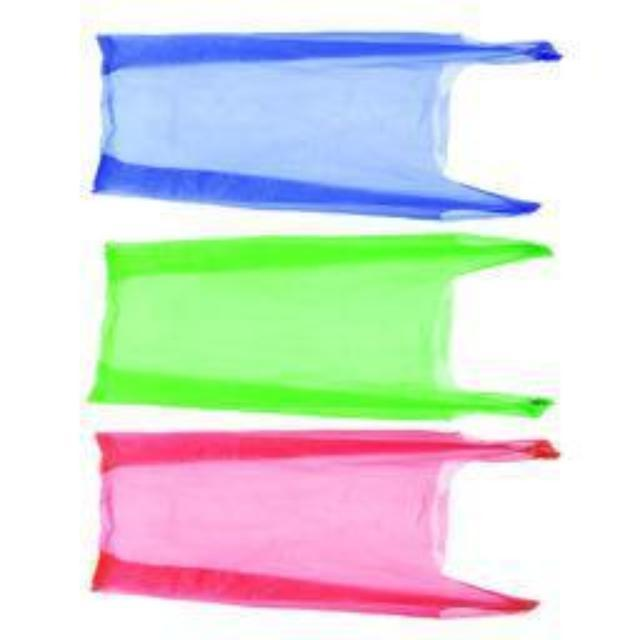Bolsa-de-plastico: (105, 37, 563, 213), (107, 440, 568, 613), (105, 246, 565, 416)
